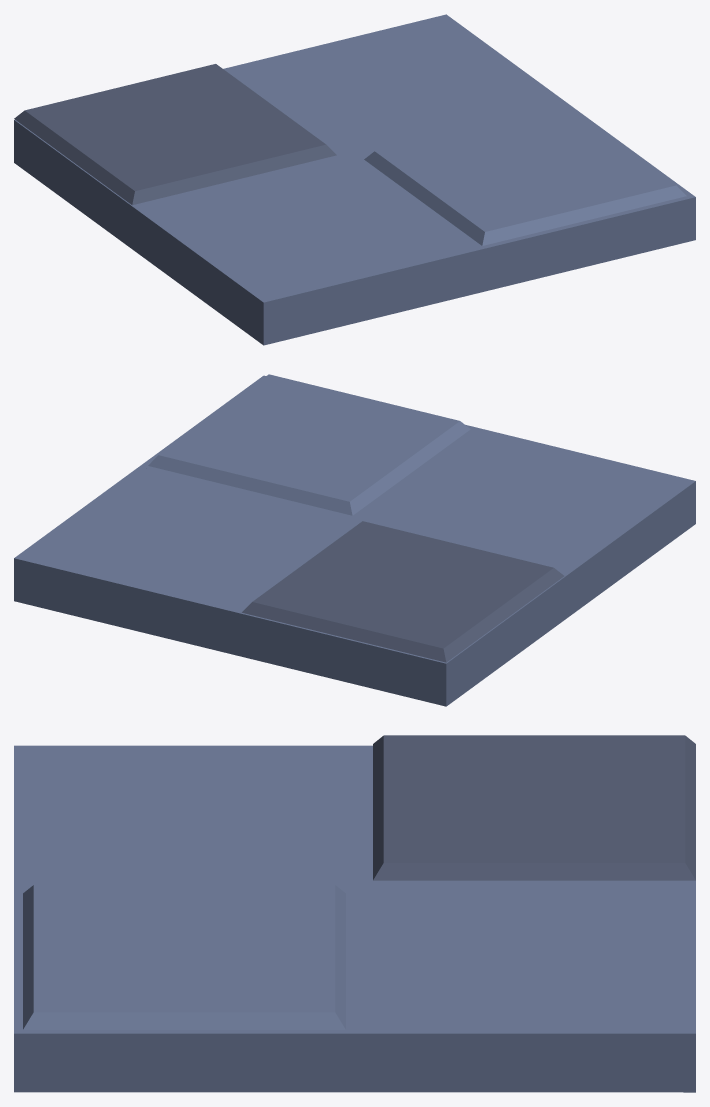
Rendered from floor-005.glb.
The picture shows the model from 3 angles, top to bottom: view 1: azimuth 30°, elevation 25°; view 2: azimuth 150°, elevation 25°; view 3: azimuth 270°, elevation 25°; orthographic projection. The views are drawn at different scales.
Visible parts, largest first — view 1: floor.005; view 2: floor.005; view 3: floor.005.
Part boxes in pixels (<box>): floor.005: <box>14,14,695,345</box>; floor.005: <box>14,374,695,706</box>; floor.005: <box>14,735,695,1092</box>.
Bounding box in the file's own units: 2 × 0.2371 × 2.
